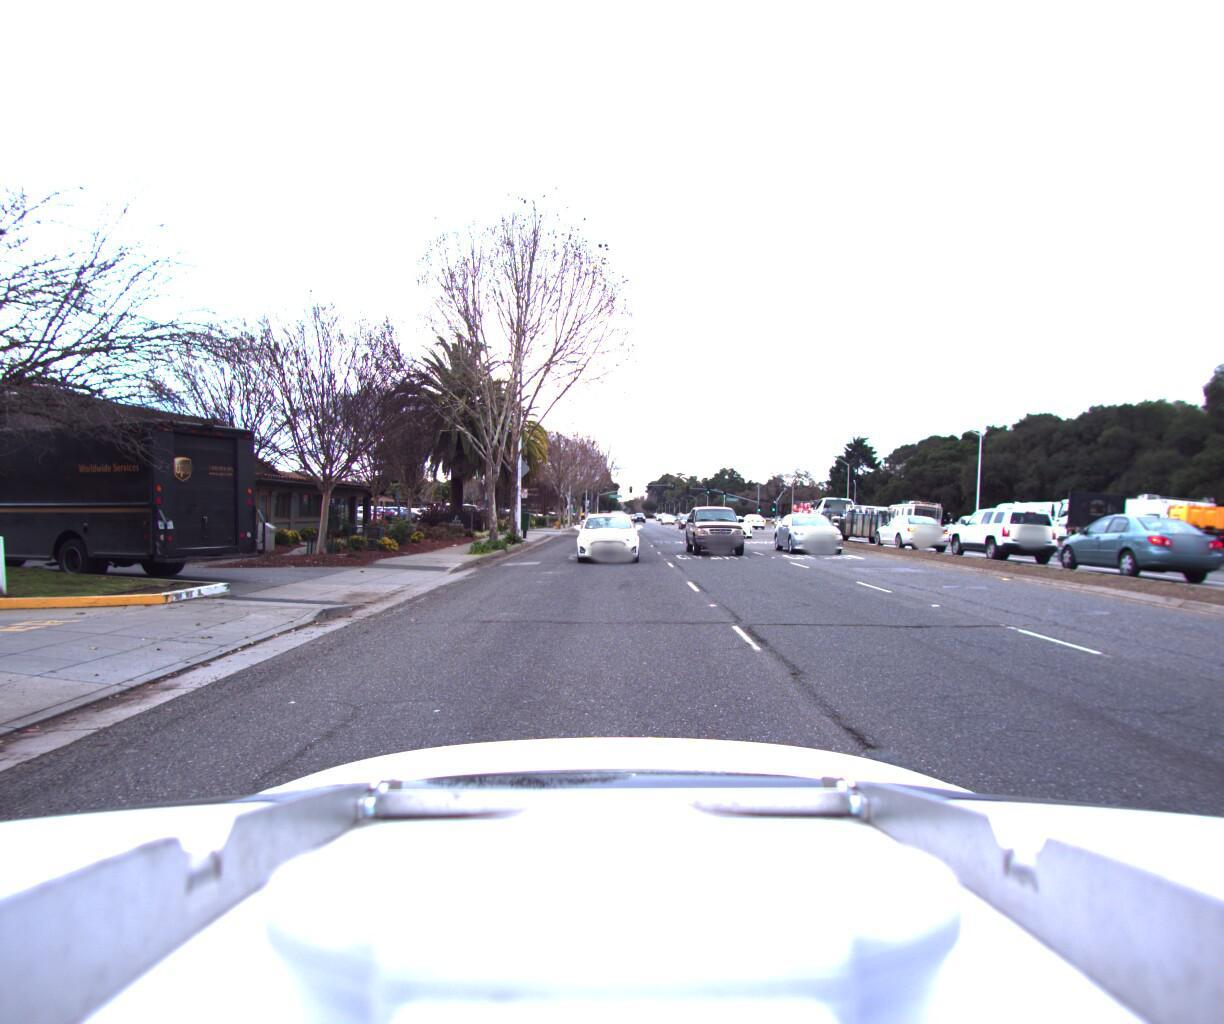bus: (977, 491, 1122, 554)
car: (1047, 510, 1224, 582), (943, 497, 1065, 557), (688, 500, 757, 558), (574, 505, 644, 562), (776, 509, 862, 554), (868, 507, 955, 548), (1184, 518, 1224, 573), (712, 508, 757, 534), (738, 506, 766, 524)
other_vehicle: (1084, 488, 1224, 558)
truck: (0, 414, 266, 583), (1006, 475, 1224, 561), (800, 489, 900, 540), (876, 494, 944, 538)
